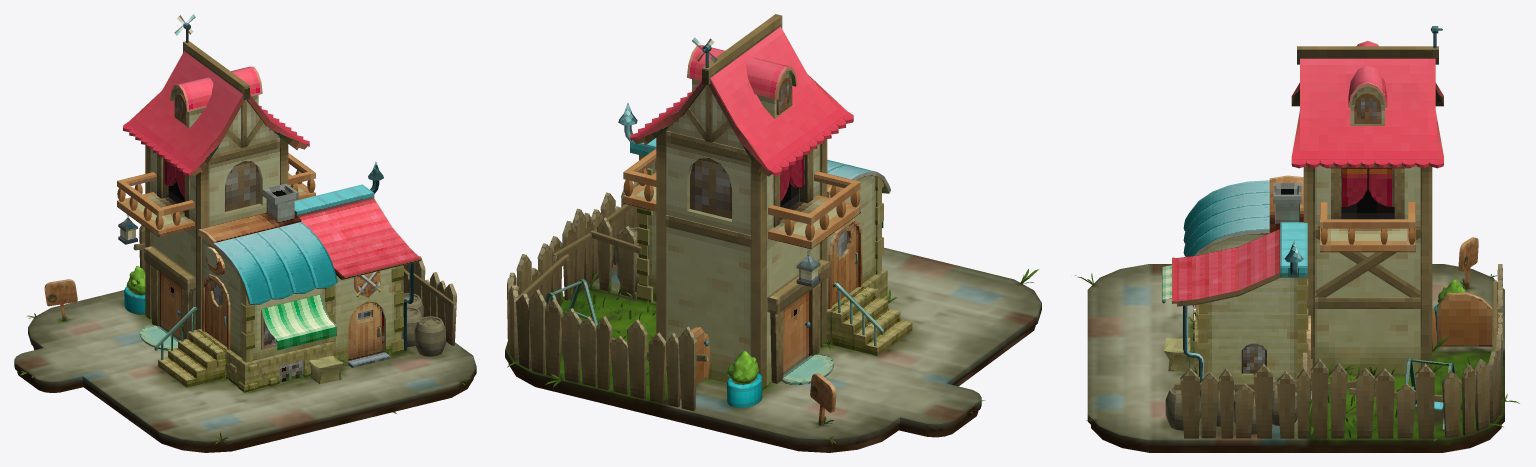
The model's file is nekostop.gltf.
3 renders of one model, left to right at view 1: azimuth 30°, elevation 25°; view 2: azimuth 150°, elevation 25°; view 3: azimuth 270°, elevation 25°, orthographic. The views are drawn at different scales.
Visible parts, largest first — view 1: miniHouse_Part4, miniHouse_Part1, miniHouse_Part2, miniHouse_Part3; view 2: miniHouse_Part1, miniHouse_Part4, miniHouse_Part3, miniHouse_Part2, miniHouse_Part4_grassStrands; view 3: miniHouse_Part1, miniHouse_Part3, miniHouse_Part4, miniHouse_Part2, miniHouse_Part4_grassStrands.
Part boxes in pixels (left/top/right/bottom): miniHouse_Part4: left=14, top=279, right=476, bottom=452; miniHouse_Part1: left=117, top=22, right=315, bottom=350; miniHouse_Part2: left=154, top=183, right=403, bottom=392; miniHouse_Part3: left=133, top=161, right=456, bottom=367; miniHouse_Part1: left=623, top=14, right=860, bottom=407; miniHouse_Part4: left=505, top=247, right=1041, bottom=452; miniHouse_Part3: left=507, top=103, right=708, bottom=411; miniHouse_Part2: left=545, top=155, right=912, bottom=355; miniHouse_Part4_grassStrands: left=507, top=269, right=1038, bottom=443; miniHouse_Part1: left=1291, top=26, right=1497, bottom=373; miniHouse_Part3: left=1165, top=222, right=1502, bottom=438; miniHouse_Part4: left=1087, top=237, right=1504, bottom=452; miniHouse_Part2: left=1162, top=175, right=1455, bottom=429; miniHouse_Part4_grassStrands: left=1075, top=273, right=1519, bottom=440.
Size of the model in its own units: 14.79 by 12.03 by 13.73.
5 materials, 5 textured.
